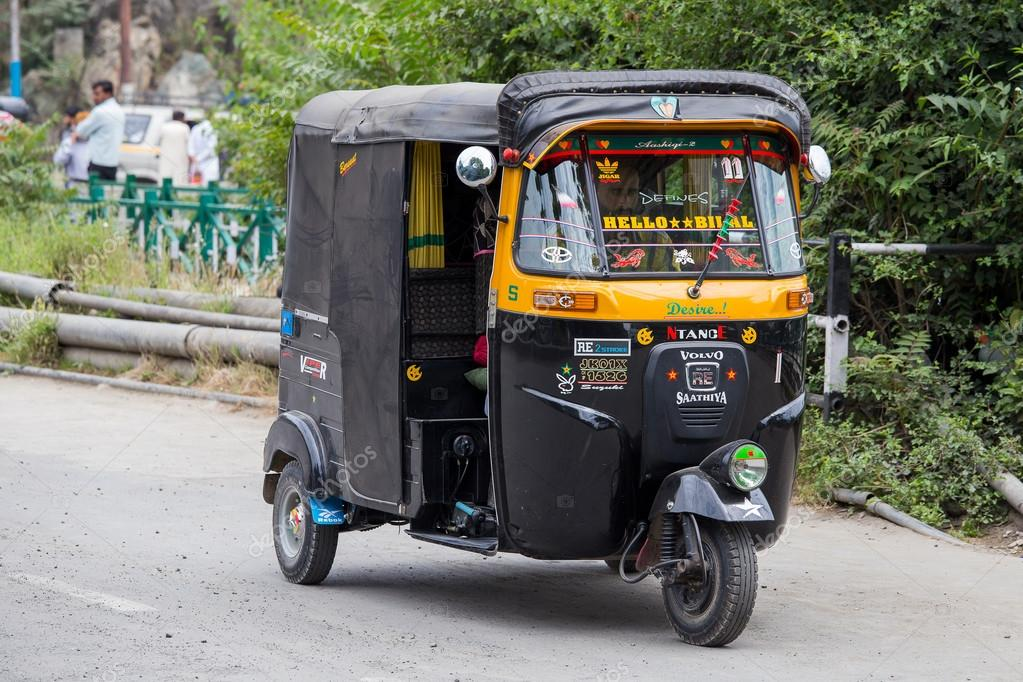autorickshaw: (255, 60, 844, 652)
